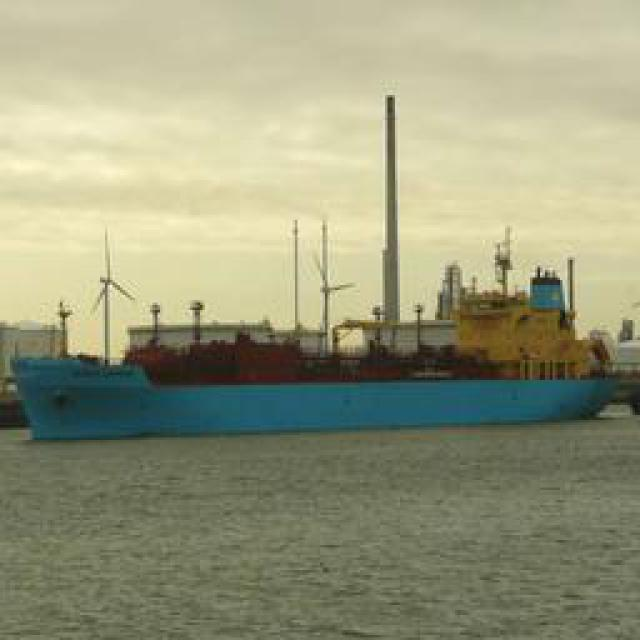Ship: (8, 225, 636, 443)
